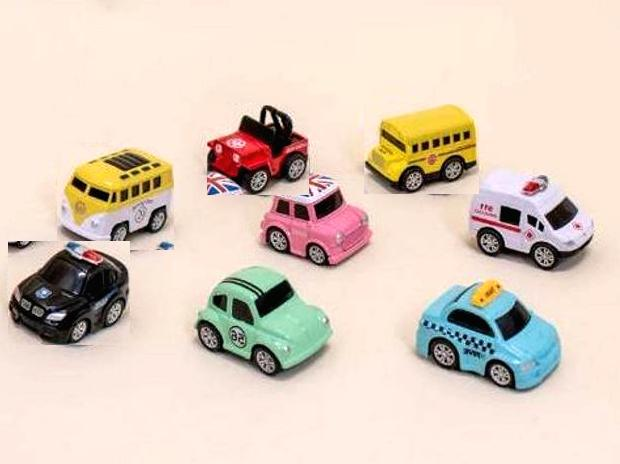toy-car: (415, 278, 562, 391), (194, 266, 333, 376), (467, 171, 595, 272), (8, 241, 130, 345), (57, 147, 174, 250), (258, 172, 372, 267), (363, 105, 478, 195), (207, 106, 309, 196)
